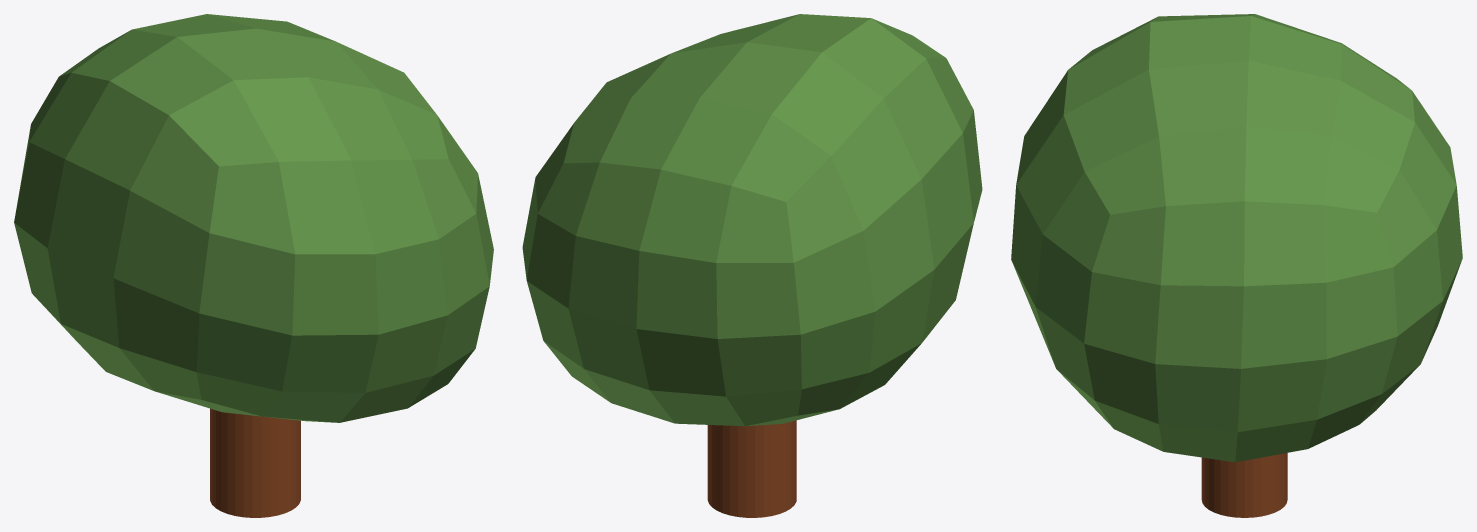
The model's file is decorLarge-forest-80.glb.
The picture shows the model from 3 angles, left to right: view 1: azimuth 30°, elevation 25°; view 2: azimuth 150°, elevation 25°; view 3: azimuth 270°, elevation 25°; orthographic projection. The views are drawn at different scales.
Parts seen in each view (by area): view 1: piece; view 2: piece; view 3: piece.
Boxes of the visible parts, x1=… form: piece: x1=14, y1=14, x2=493, y2=517; piece: x1=522, y1=14, x2=982, y2=517; piece: x1=1011, y1=14, x2=1462, y2=517.
Size of the model in its own units: 8.21 by 9.31 by 8.48.
